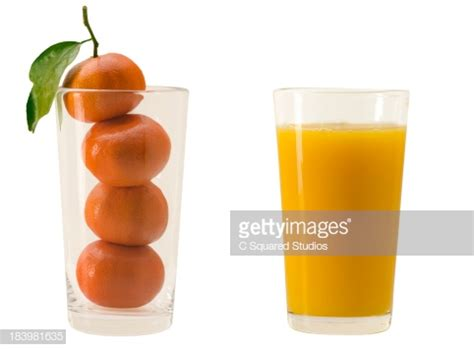orange: (78, 112, 178, 189), (78, 174, 174, 249), (54, 50, 153, 120), (76, 239, 168, 312)
